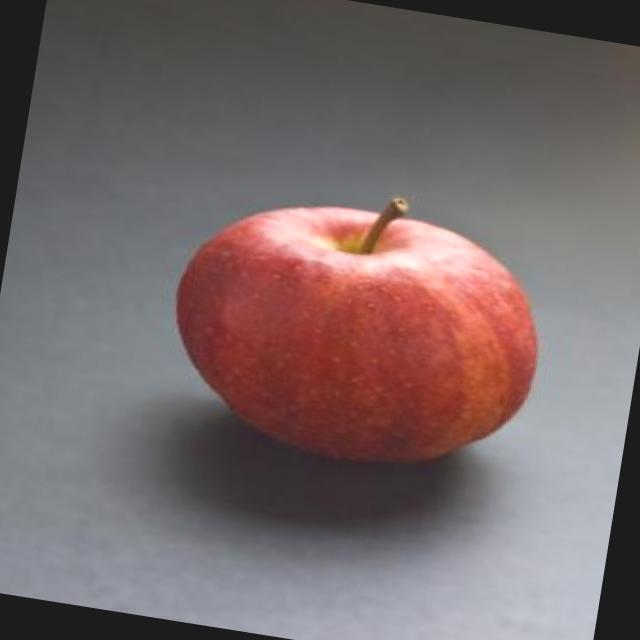apple: (152, 169, 567, 494)
